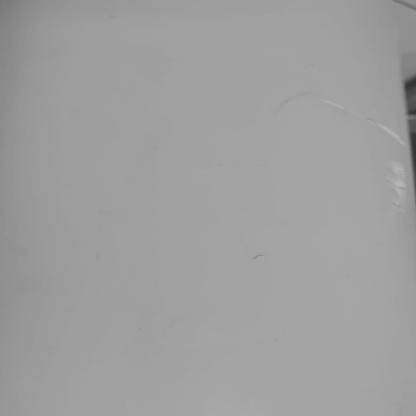sunshang: (320, 98, 412, 152), (391, 162, 411, 216)
